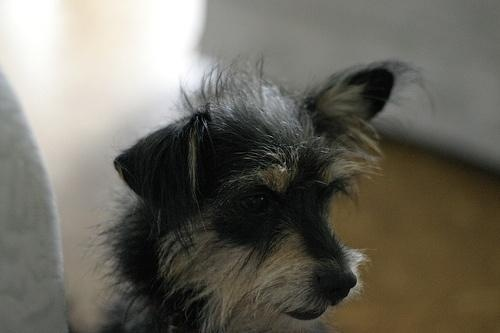dog: (95, 57, 433, 333)
